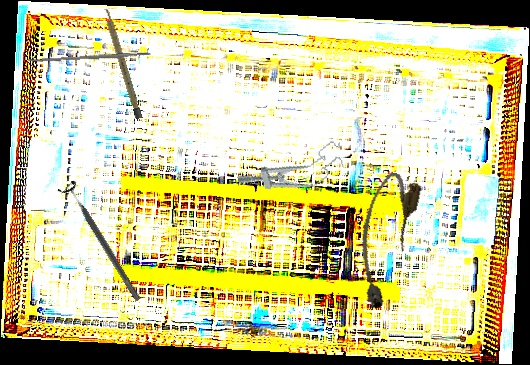Cannula: (343, 168, 425, 313)
Fixation Ring: (57, 179, 147, 306)
Scalpel Handle: (102, 7, 143, 120), (27, 51, 152, 64)
Speculum: (234, 138, 350, 207)
